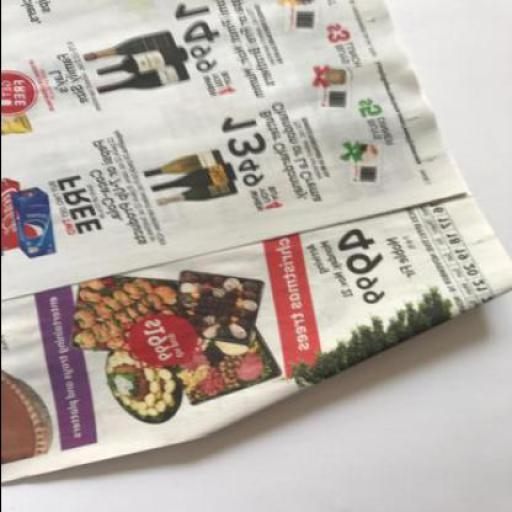paper: (1, 0, 511, 478)
